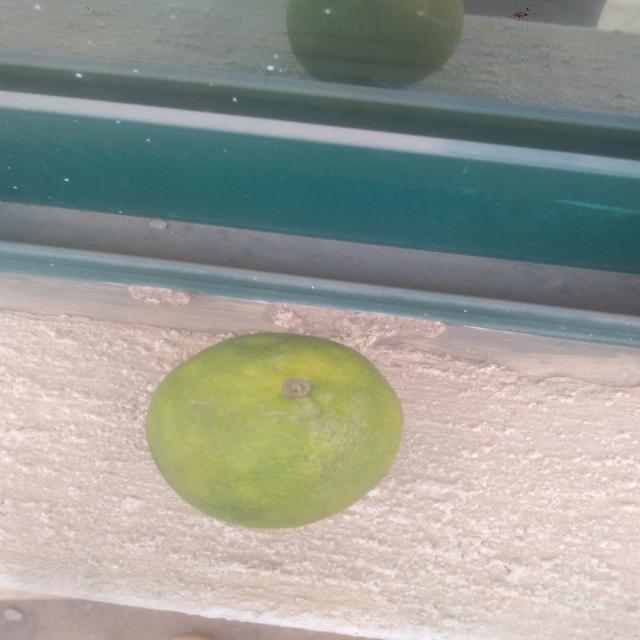Ripe orange: (134, 298, 416, 556)
